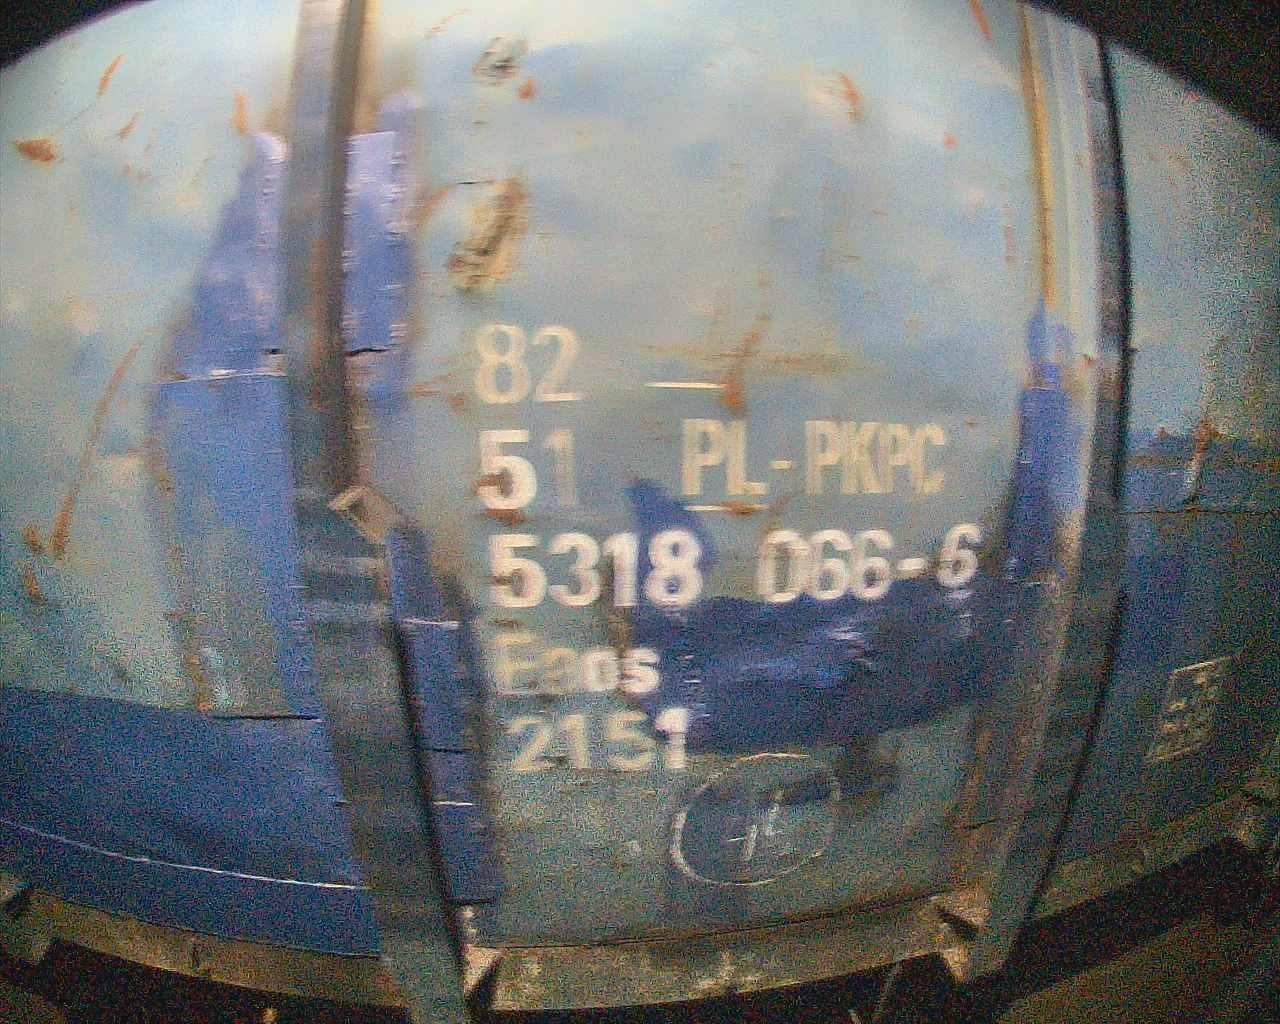UIC: (468, 319, 985, 783)
